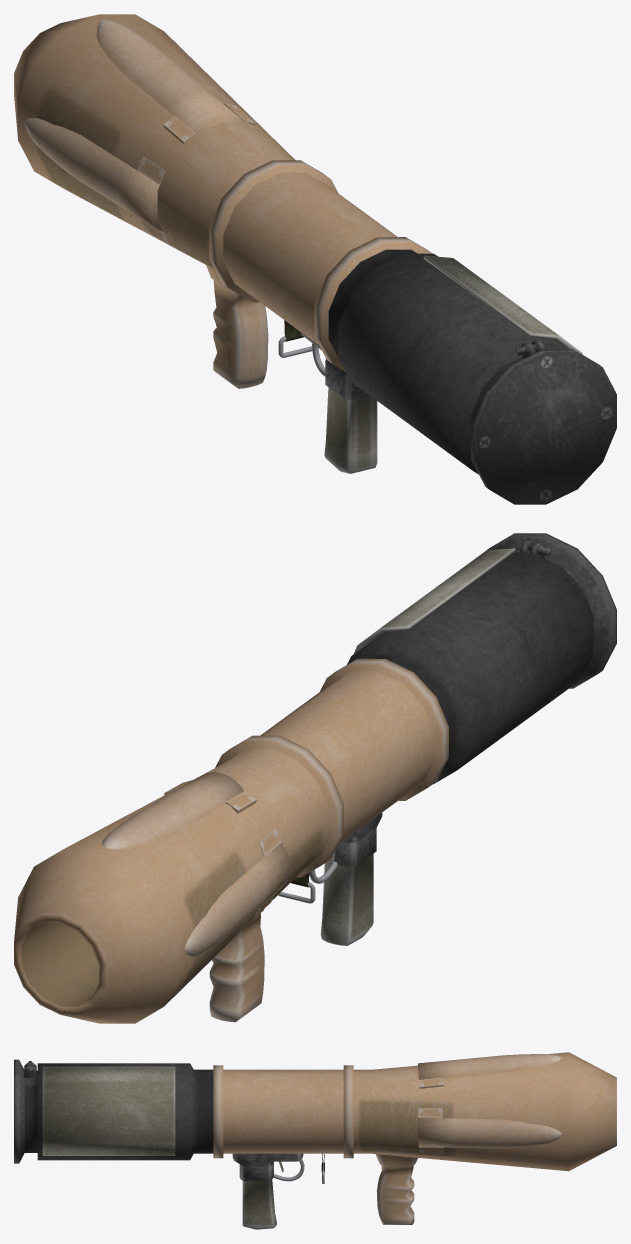
3 renders of one model, top to bottom at view 1: azimuth 30°, elevation 25°; view 2: azimuth 150°, elevation 25°; view 3: azimuth 270°, elevation 25°, orthographic. The views are drawn at different scales.
Visible parts, largest first — view 1: Weapon_RL_0; view 2: Weapon_RL_0; view 3: Weapon_RL_0.
Part boxes in pixels (x1,y1,x2,y2): Weapon_RL_0: (14, 14, 616, 504); Weapon_RL_0: (14, 533, 616, 1023); Weapon_RL_0: (14, 1052, 616, 1229).
Bounding box in the file's own units: 0.714 × 1.11 × 3.6.
1 material, 1 textured.
